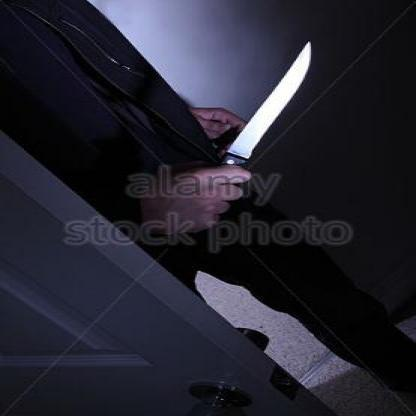knife: (188, 36, 317, 224)
